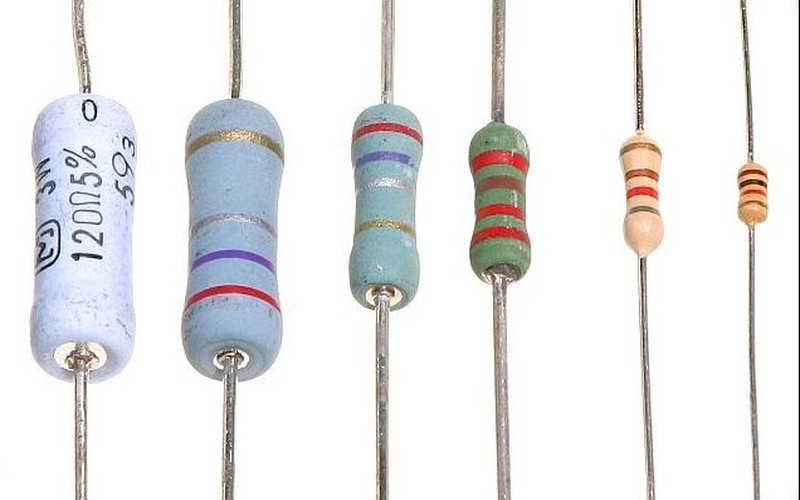Resistor: (28, 56, 298, 402), (325, 61, 551, 324), (582, 107, 779, 268)
